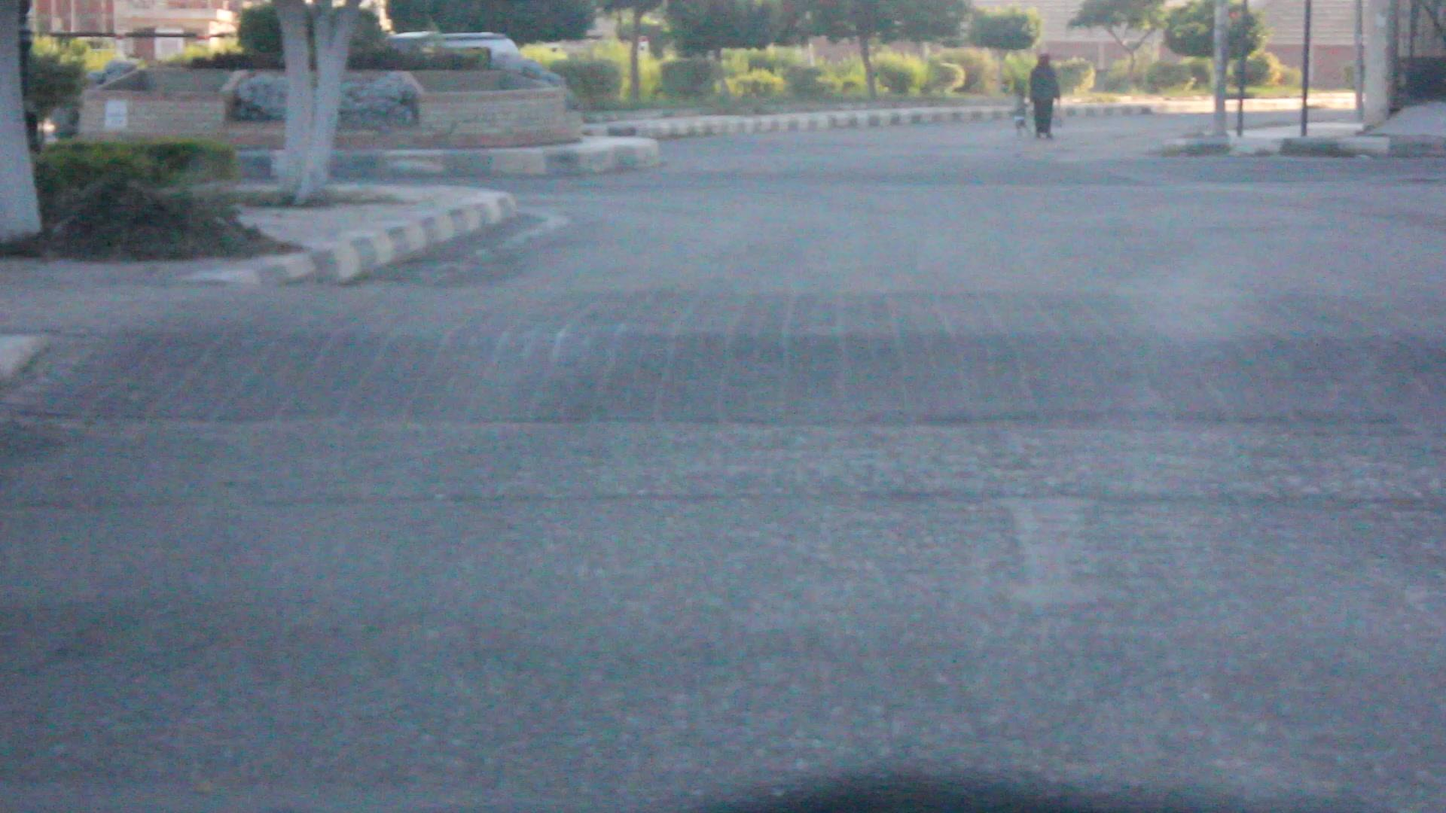Bump: (28, 280, 1440, 441)
